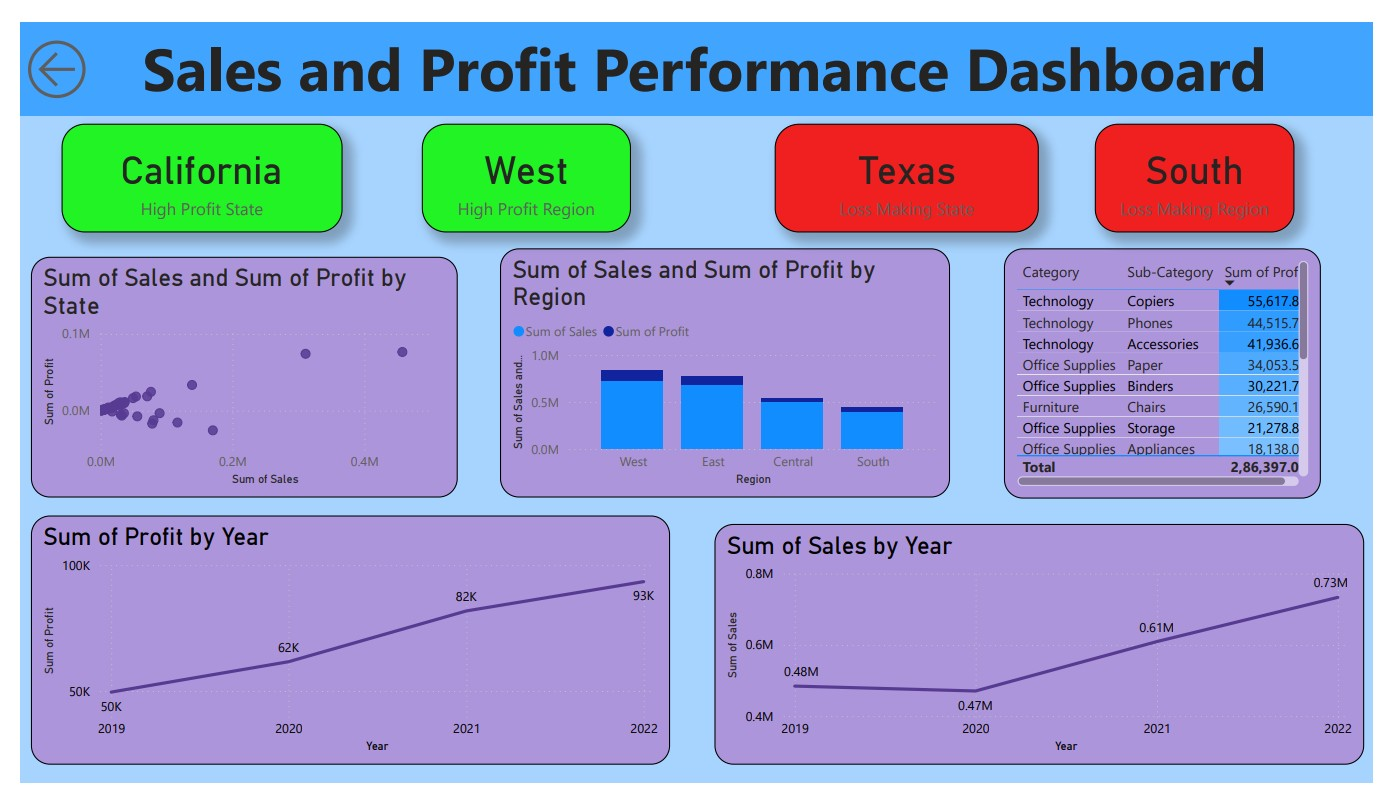

This screenshot's page, from the dashboard's own definition file:
{"tool":"powerbi","page":{"name":" Sales and Profit Performance Dashboard","canvas":[1280,720],"ordinal":1},"visuals":[{"type":"textbox","box":[0,0,1280,89],"z":0},{"type":"lineChart","fields":{"Category":["Orders.Order Date.Variation.Date Hierarchy.Year"],"Y":["Sum(Orders.Profit)"]},"box":[9.7,466.9,605,236.4],"z":1000},{"type":"columnChart","fields":{"Category":["Orders.Region"],"Y":["Sum(Orders.Sales)","Sum(Orders.Profit)"]},"box":[454.2,214,426,236.4],"z":2000},{"type":"scatterChart","fields":{"Category":["Orders.State"],"X":["Sum(Orders.Sales)"],"Y":["Sum(Orders.Profit)"]},"box":[9.7,221.8,404.6,228.6],"z":3000},{"type":"tableEx","fields":{"Values":["Orders.Category","Orders.Sub-Category","Sum(Orders.Profit)"]},"box":[931,214,300,237],"z":4000},{"type":"card","fields":{"Values":["Min(Orders.State)"]},"box":[39,96,266,103],"z":5000},{"type":"card","fields":{"Values":["Min(Orders.State)"]},"box":[714,96,250,103],"z":6000},{"type":"card","fields":{"Values":["Min(Orders.Region)"]},"box":[380,96,198,103],"z":7000},{"type":"card","fields":{"Values":["Min(Orders.Region)"]},"box":[1017,96,189,103],"z":8000},{"type":"lineChart","fields":{"Category":["Orders.Order Date.Variation.Date Hierarchy.Year"],"Y":["Sum(Orders.Sales)"]},"box":[656.5,474.7,615.7,228.6],"z":9000},{"type":"actionButton","box":[0,10,73,69],"z":10000}]}

Visuals, with their boxes in screenshot pixels (x1, y1, x2, y2), scaled from the page's 1280x720 canvas onto the 1394x805 screenshot:
textbox: (0,0,1393,100)
lineChart - Orders.Order Date.Variation.Date Hierarchy.Year x Sum(Orders.Profit): (11,522,669,786)
columnChart - Orders.Region x Sum(Orders.Sales): (495,239,959,504)
scatterChart - Orders.State x Sum(Orders.Sales): (11,248,451,504)
tableEx - Orders.Category x Orders.Sub-Category: (1014,239,1341,504)
card - Min(Orders.State): (42,107,332,222)
card - Min(Orders.State): (778,107,1050,222)
card - Min(Orders.Region): (414,107,629,222)
card - Min(Orders.Region): (1108,107,1313,222)
lineChart - Orders.Order Date.Variation.Date Hierarchy.Year x Sum(Orders.Sales): (715,531,1386,786)
actionButton: (0,11,80,88)
